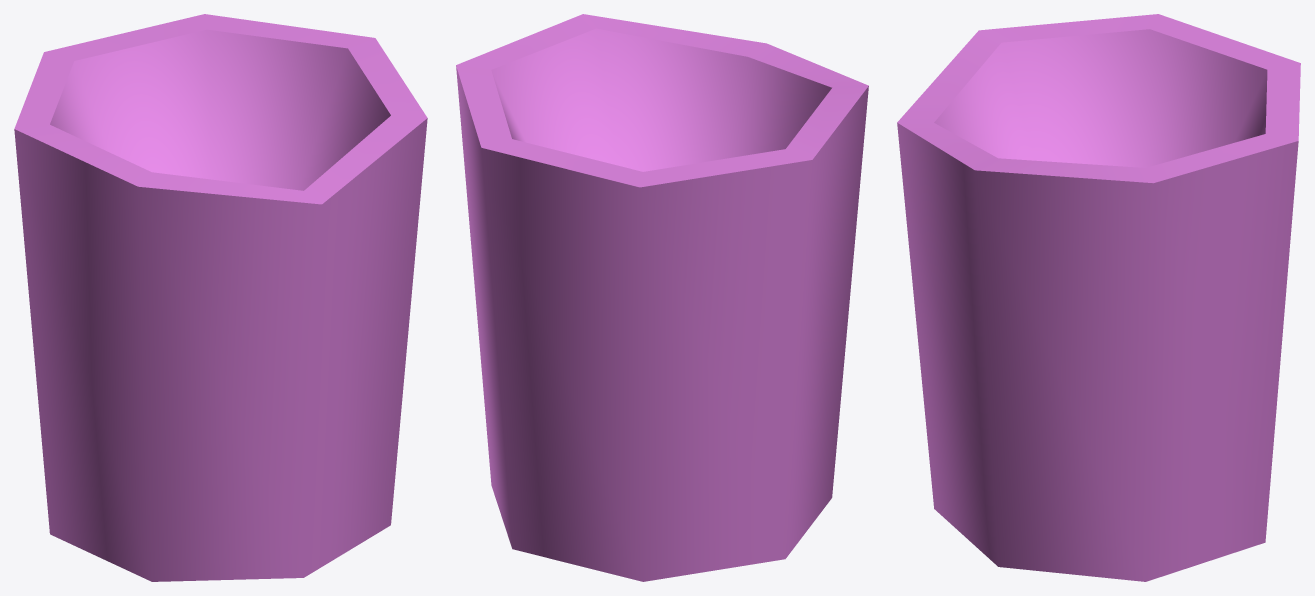
Rendered from Trashcan.fbx.
3 views of the same model, side by side, from view 1: azimuth 30°, elevation 25°; view 2: azimuth 150°, elevation 25°; view 3: azimuth 270°, elevation 25° (orthographic).
Visible parts, largest first — view 1: Trachcan; view 2: Trachcan; view 3: Trachcan.
Boxes of the visible parts, bbox=[...] form: Trachcan: bbox=[14, 14, 427, 581]; Trachcan: bbox=[456, 14, 868, 581]; Trachcan: bbox=[897, 14, 1300, 581].
Size of the model in its own units: 140 by 154 by 137.
